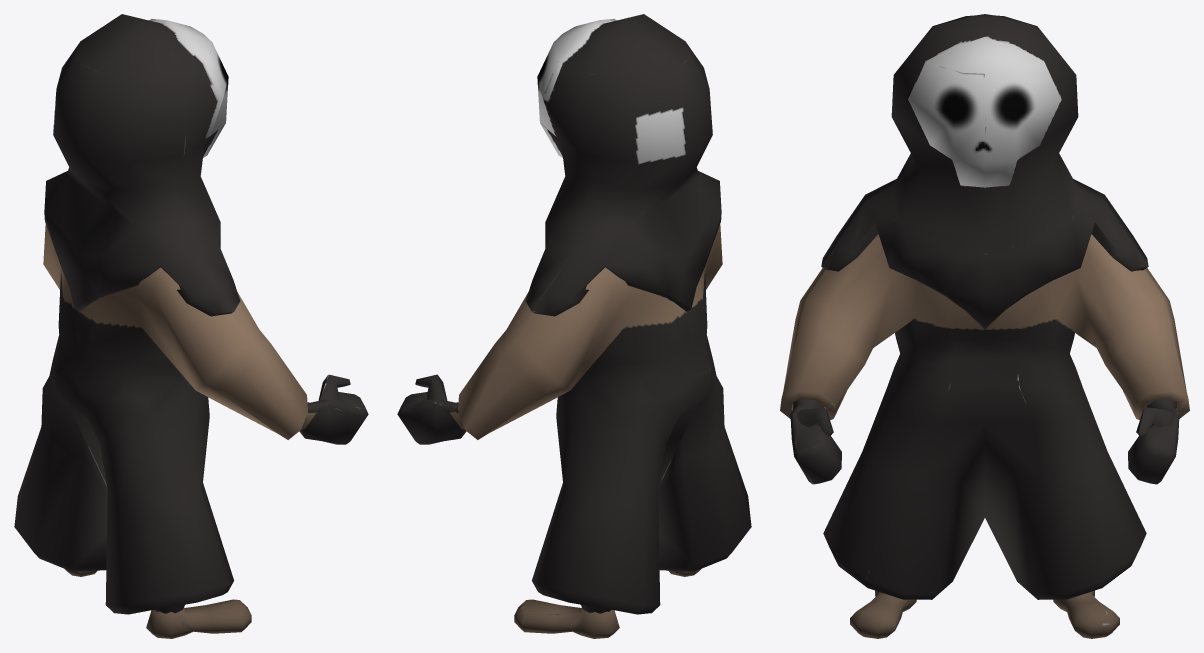
The model's file is MonahHuman.glb.
3 views of the same model, side by side, from view 1: azimuth 30°, elevation 25°; view 2: azimuth 150°, elevation 25°; view 3: azimuth 270°, elevation 25° (orthographic). The views are drawn at different scales.
Visible parts, largest first — view 1: Cube.020; view 2: Cube.020; view 3: Cube.020.
Boxes of the visible parts, x1=… form: Cube.020: x1=14, y1=14, x2=368, y2=638; Cube.020: x1=397, y1=14, x2=751, y2=638; Cube.020: x1=780, y1=14, x2=1189, y2=638.
Size of the model in its own units: 0.3738 by 0.941 by 0.5839.
1 material, 1 textured.
